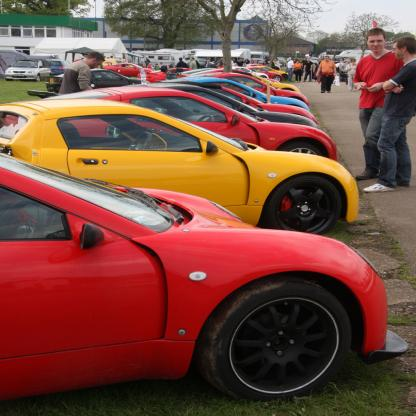Car: (1, 59, 407, 405), (46, 67, 156, 100), (8, 55, 53, 85), (107, 60, 151, 79)
